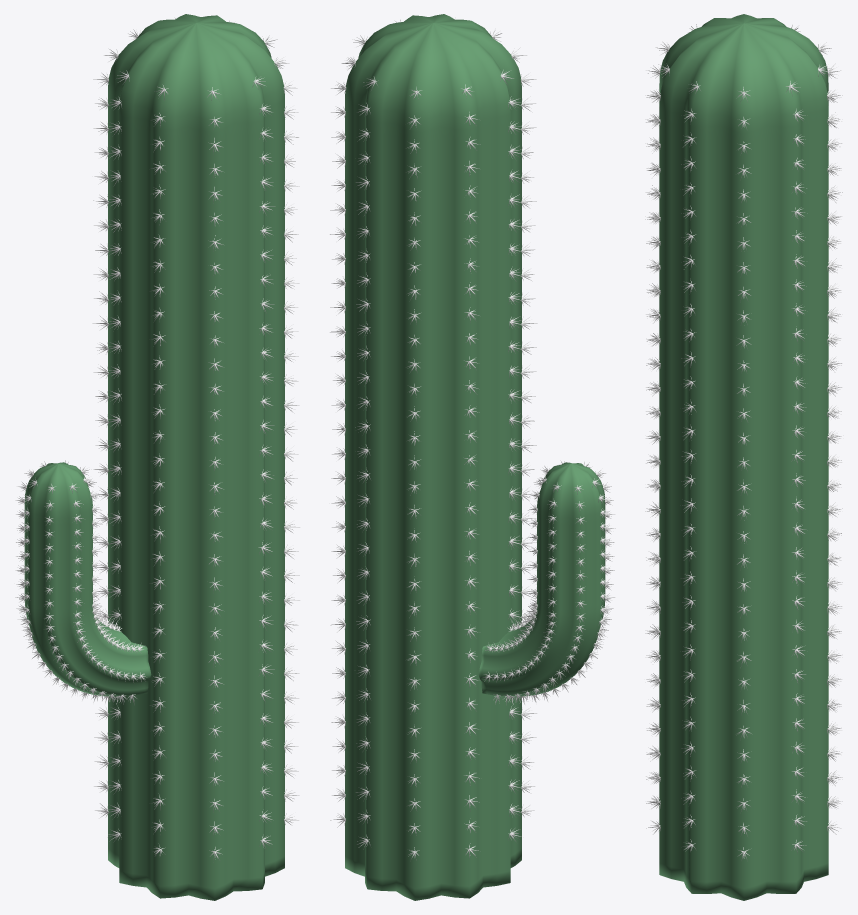
3 renders of one model, left to right at view 1: azimuth 30°, elevation 25°; view 2: azimuth 150°, elevation 25°; view 3: azimuth 270°, elevation 25°, orthographic.
Visible parts, largest first — view 1: main_stem, side_arm, stem_spine_clusters, arm_spine_clusters; view 2: main_stem, side_arm, stem_spine_clusters, arm_spine_clusters; view 3: main_stem, stem_spine_clusters.
Part boxes in pixels (bbox=[...]): main_stem: bbox=[108, 14, 284, 900]; side_arm: bbox=[24, 462, 151, 696]; stem_spine_clusters: bbox=[92, 18, 299, 862]; arm_spine_clusters: bbox=[15, 460, 146, 704]; main_stem: bbox=[345, 14, 521, 900]; side_arm: bbox=[478, 462, 605, 696]; stem_spine_clusters: bbox=[330, 20, 537, 860]; arm_spine_clusters: bbox=[483, 461, 615, 704]; main_stem: bbox=[659, 14, 828, 900]; stem_spine_clusters: bbox=[645, 24, 842, 860].
Bounding box in the file's own units: 1.34 × 4 × 0.8607.
